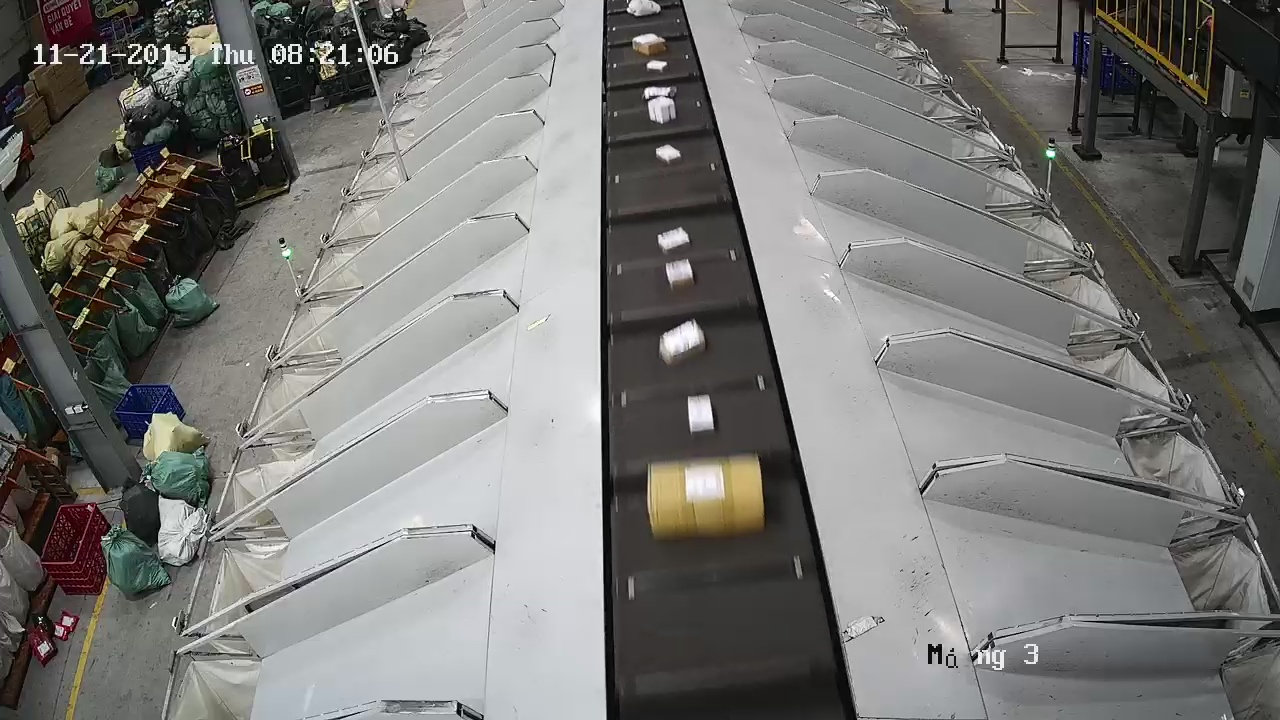parcel: (644, 450, 768, 544), (659, 319, 708, 366), (687, 393, 715, 437)
